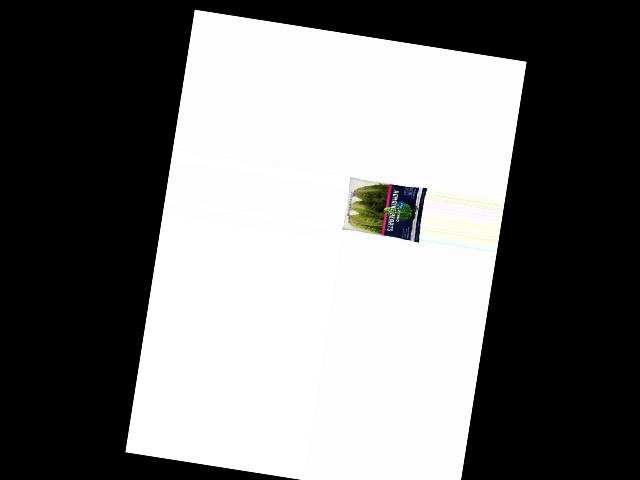lettuce: (343, 174, 426, 244)
